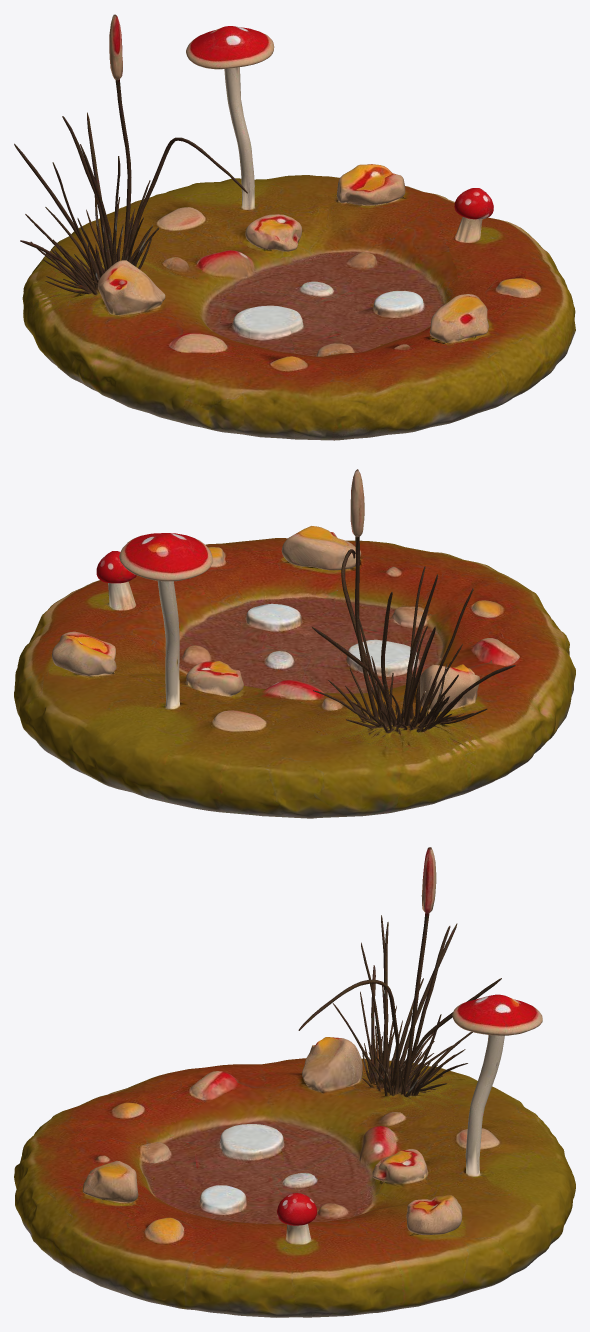
File: leapBaseMillpond.975e0e54.glb
The picture shows the model from 3 angles, top to bottom: view 1: azimuth 30°, elevation 25°; view 2: azimuth 150°, elevation 25°; view 3: azimuth 270°, elevation 25°; orthographic projection. The views are drawn at different scales.
Bounding box in the file's own units: 1.89 × 1.14 × 1.9.
Materials: 1 (1 with a texture image).
